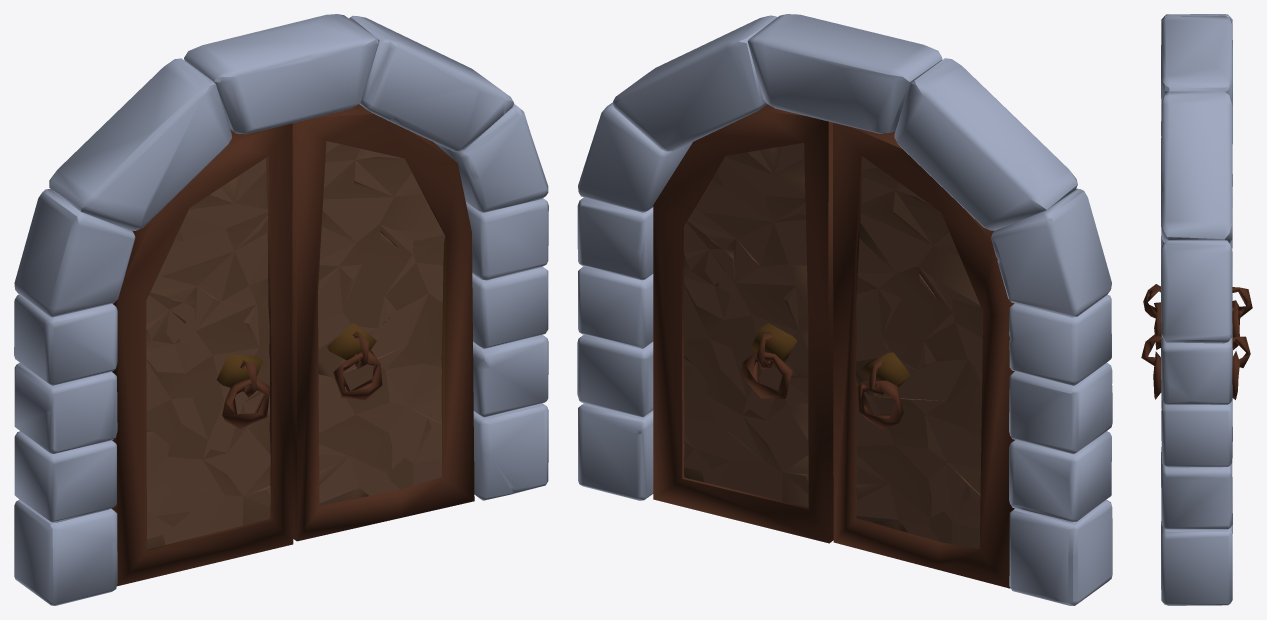
Rendered from Double_Doors_Unity_Decimated.fbx.
3 renders of one model, left to right at view 1: azimuth 30°, elevation 25°; view 2: azimuth 150°, elevation 25°; view 3: azimuth 270°, elevation 25°, orthographic. The views are drawn at different scales.
Parts seen in each view (by area): view 1: frame, door_R, door_L; view 2: frame, door_R, door_L; view 3: frame, door_R, door_L.
Boxes of the visible parts, <box> form: frame: <box>14,14,548,605</box>; door_R: <box>292,104,474,541</box>; door_L: <box>111,123,293,586</box>; frame: <box>577,14,1112,605</box>; door_R: <box>653,104,833,543</box>; door_L: <box>833,122,1014,588</box>; frame: <box>1161,14,1232,605</box>; door_R: <box>1141,334,1250,399</box>; door_L: <box>1143,284,1252,349</box>.
Size of the model in its own units: 705 by 661 by 149.
